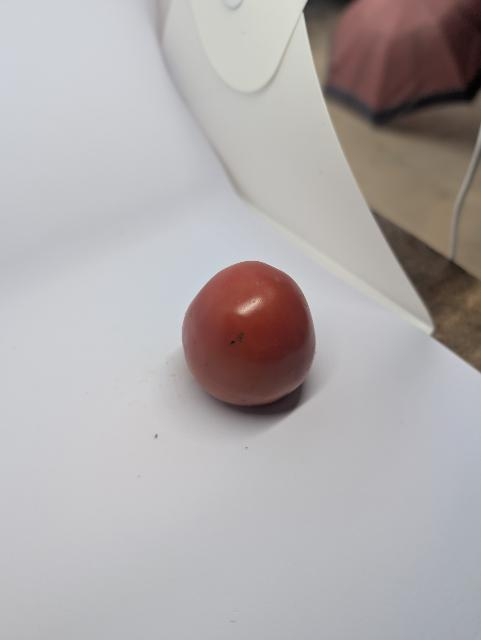red: (178, 252, 325, 437)
